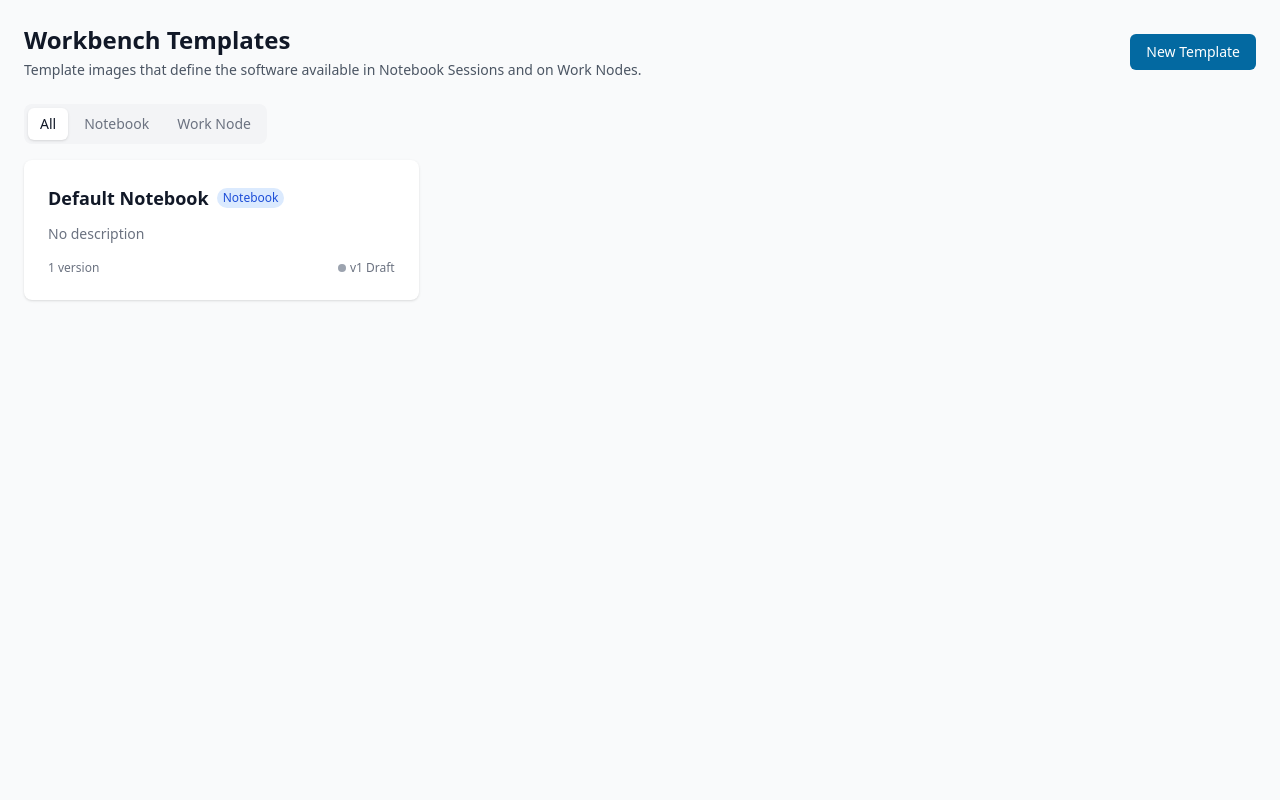
Scenario: Workbench EnvironmentsPage build confirmation › clicking Build Image opens a friendly confirmation modal (no native confirm, no Cloud Build jargon)
This screenshot has width=1280, height=800.
Click the heading "Default Notebook". click: (128, 198)
box: [48, 184, 209, 212]
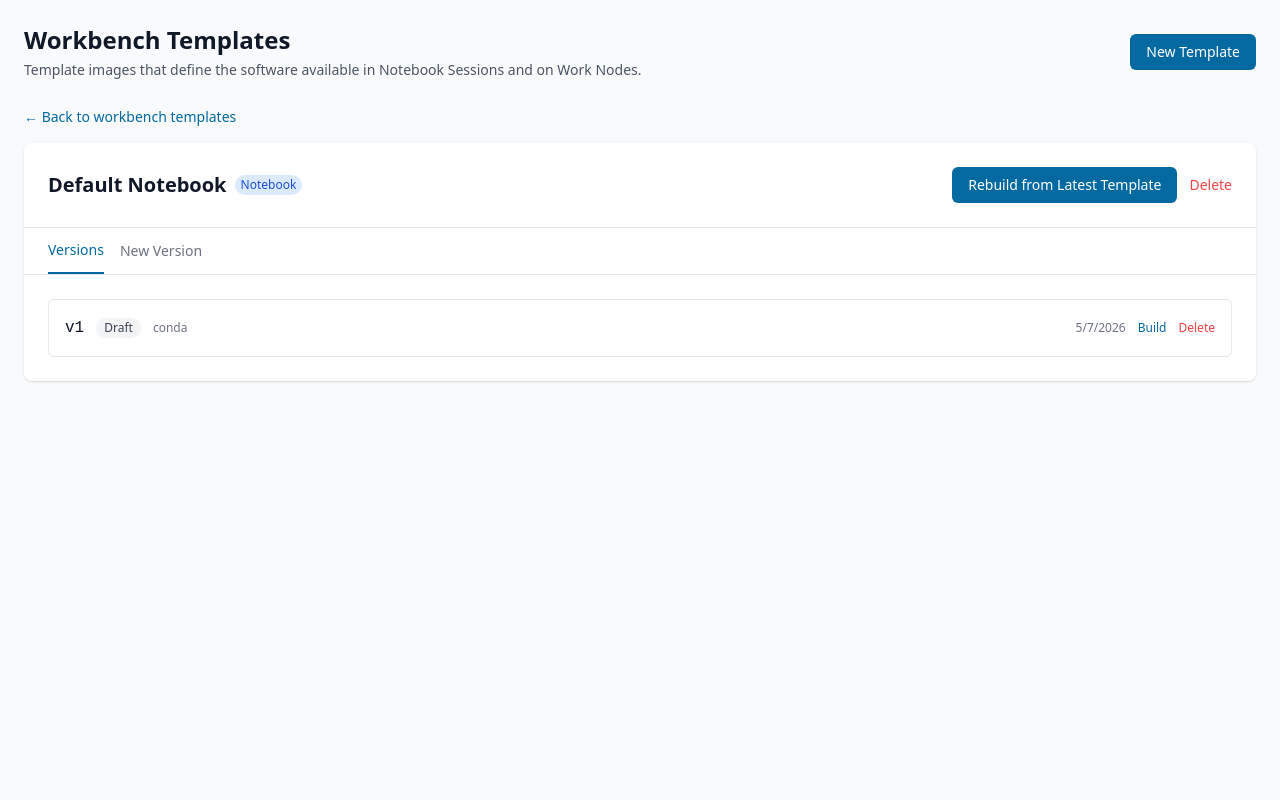
Click the button "Build". click: (1152, 328)
box: [1138, 320, 1166, 336]
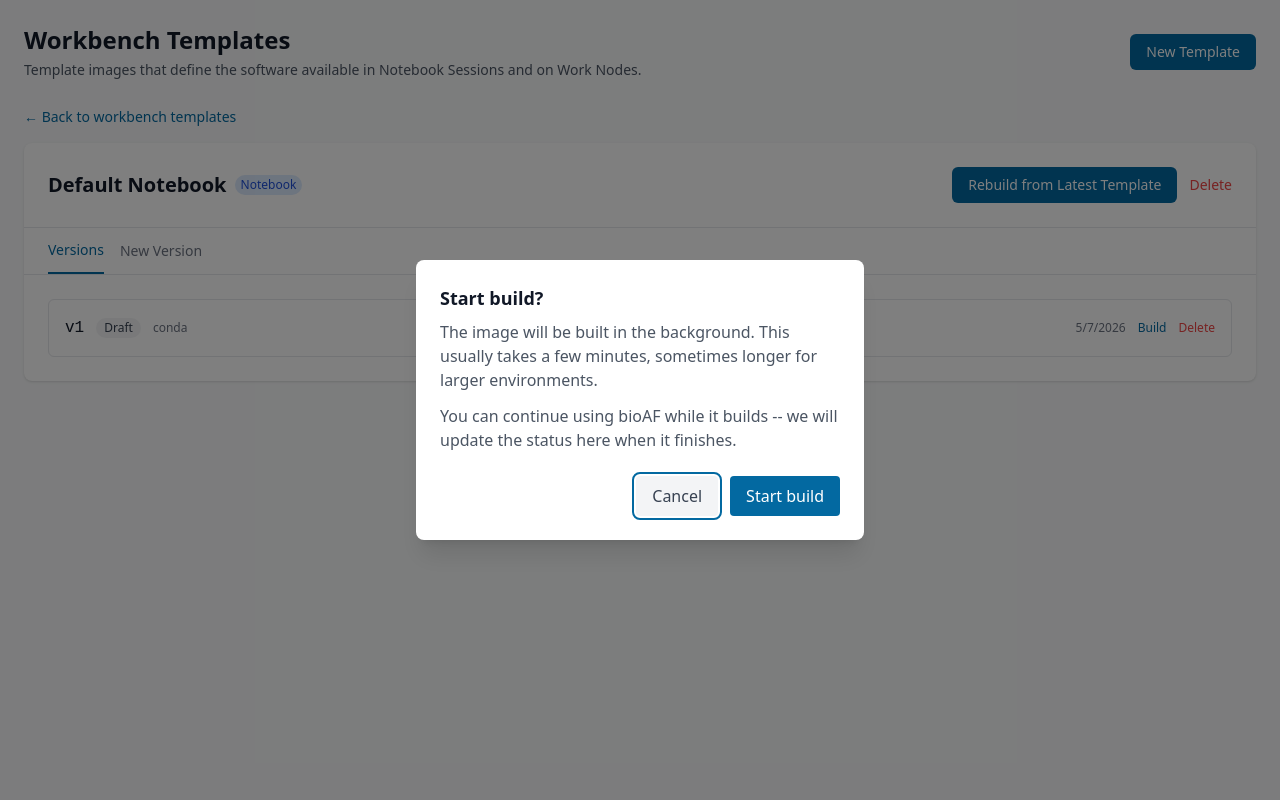
Result: the text "in the background" is shown at [440, 321, 817, 391]
Result: the text "continue using bioAF" is shown at [440, 405, 838, 451]
